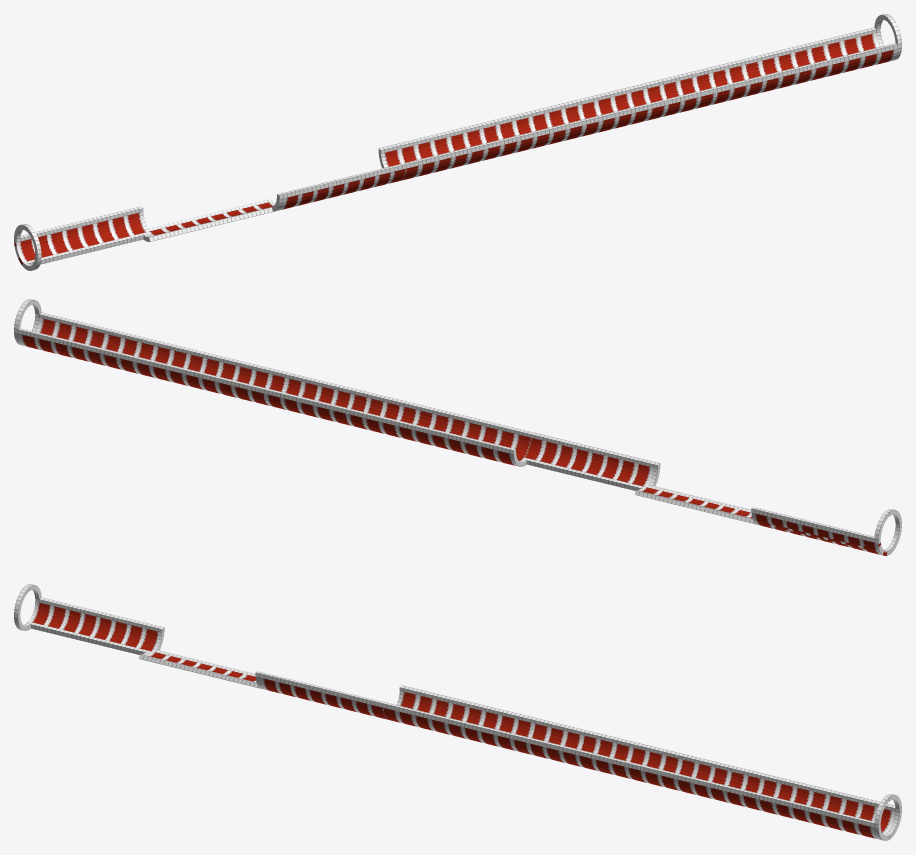
File: pipe7.dae
The picture shows the model from 3 angles, top to bottom: view 1: azimuth 30°, elevation 25°; view 2: azimuth 150°, elevation 25°; view 3: azimuth 330°, elevation 25°; orthographic projection.
Parts seen in each view (by area): view 1: pipe7; view 2: pipe7; view 3: pipe7.
Boxes of the visible parts, x1,y1,x2,y2 form: pipe7: [14, 14, 901, 270]; pipe7: [14, 299, 901, 555]; pipe7: [14, 584, 901, 840].
Size of the model in its own units: 106 by 4.98 by 4.98.
